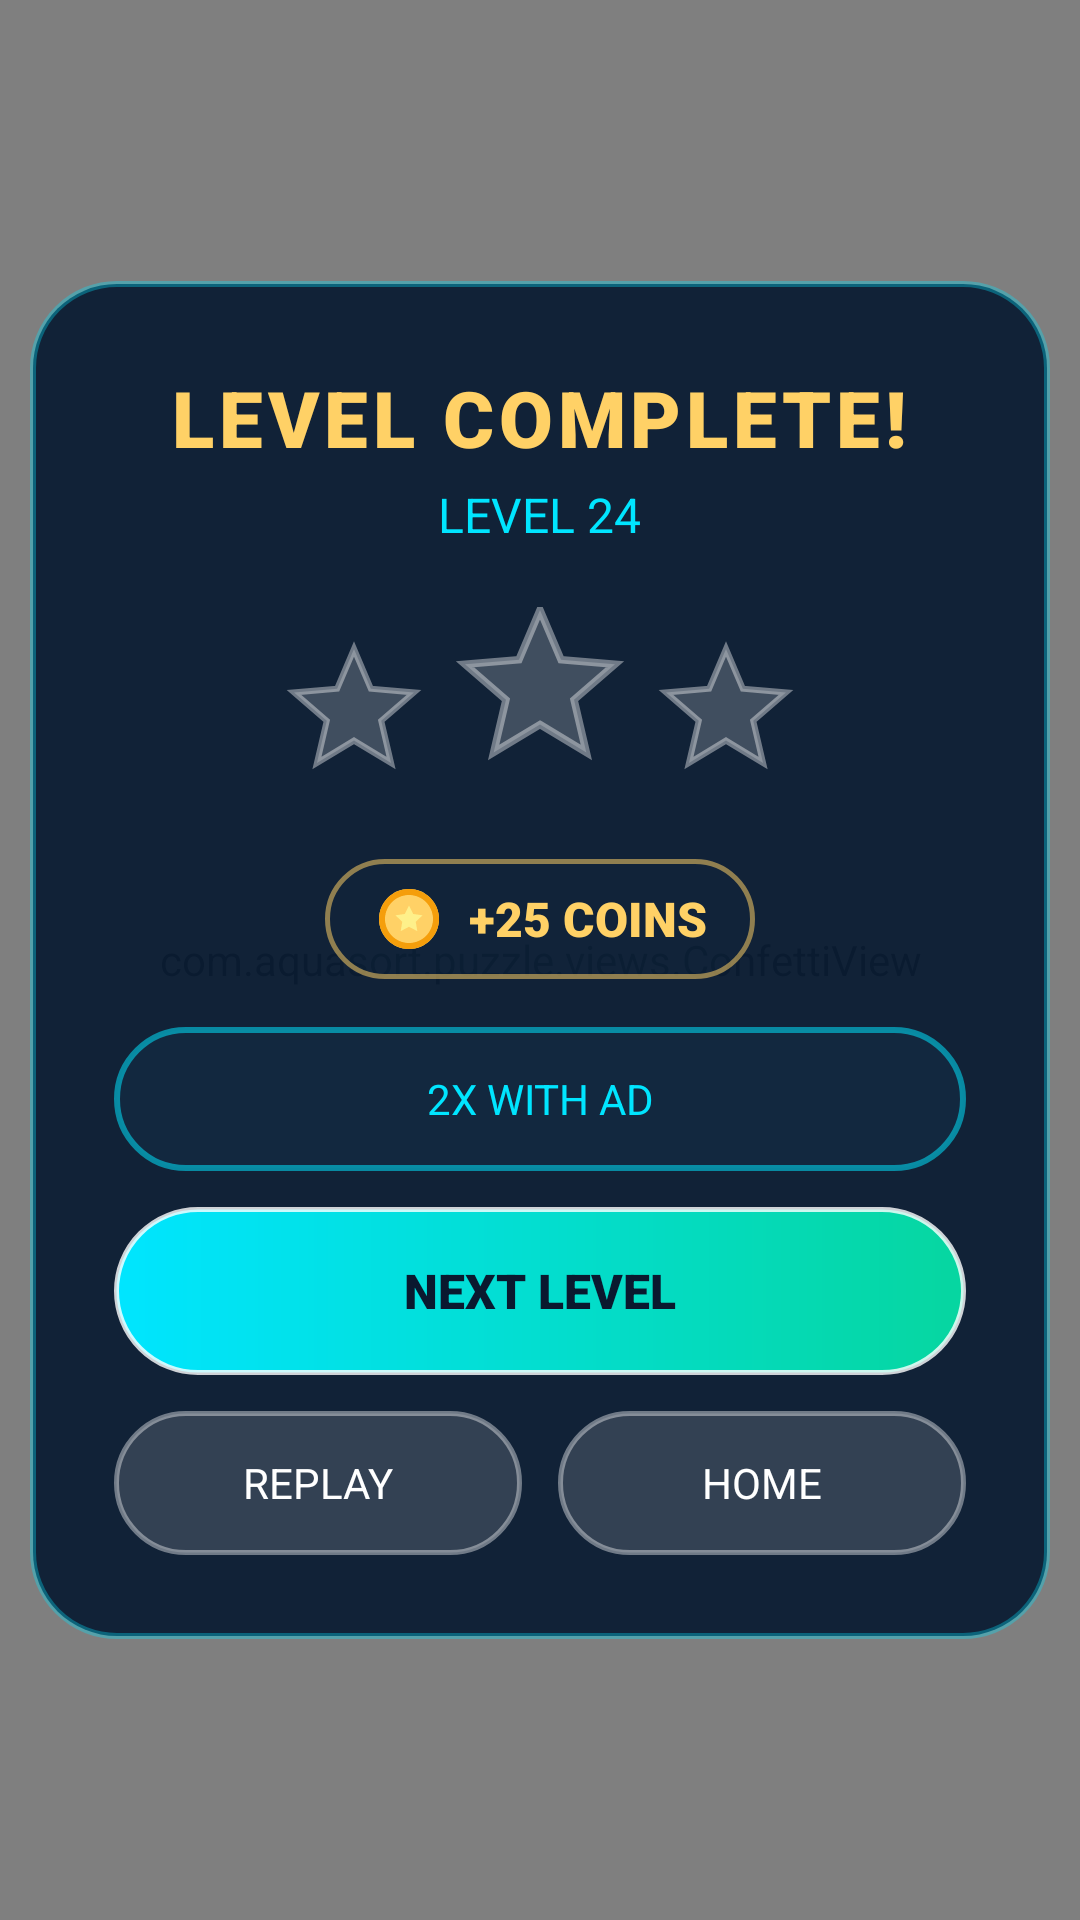

Icon click points for this 1080px×1920px phone screenshot, format point (x, y):
Star Rating: point (540, 683), point (354, 705), point (726, 705)
